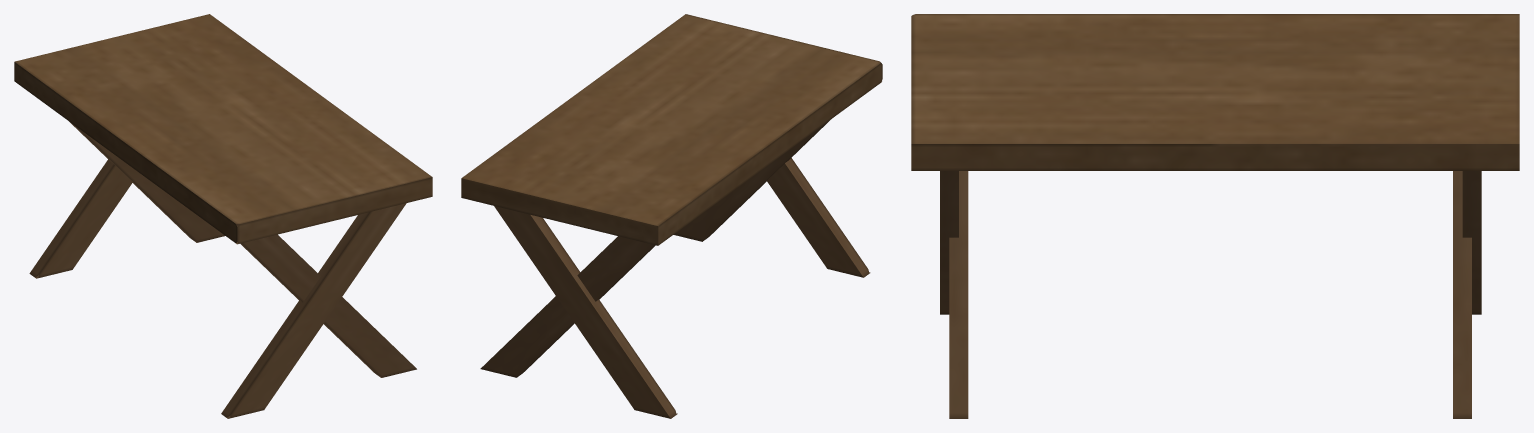
The model's file is woodtable.obj.
3 renders of one model, left to right at view 1: azimuth 30°, elevation 25°; view 2: azimuth 150°, elevation 25°; view 3: azimuth 270°, elevation 25°, orthographic. The views are drawn at different scales.
Parts seen in each view (by area): view 1: bodyModel0, bodyModel1, bodyModel2, bodyModel3, bodyModel4; view 2: bodyModel0, bodyModel3, bodyModel4, bodyModel1, bodyModel2; view 3: bodyModel0, bodyModel2, bodyModel4, bodyModel3, bodyModel1.
Boxes of the visible parts, x1,y1,x2,y2 form: bodyModel0: [14, 14, 432, 244]; bodyModel1: [221, 203, 406, 418]; bodyModel2: [236, 224, 416, 377]; bodyModel3: [29, 159, 132, 278]; bodyModel4: [69, 121, 224, 242]; bodyModel0: [461, 14, 882, 245]; bodyModel3: [494, 206, 677, 418]; bodyModel4: [480, 236, 655, 377]; bodyModel1: [767, 158, 870, 277]; bodyModel2: [673, 120, 829, 241]; bodyModel0: [911, 14, 1519, 170]; bodyModel2: [949, 171, 968, 418]; bodyModel4: [1453, 171, 1471, 418]; bodyModel3: [1462, 171, 1481, 314]; bodyModel1: [940, 171, 958, 314].
Size of the model in its own units: 16.2 by 16 by 32.
